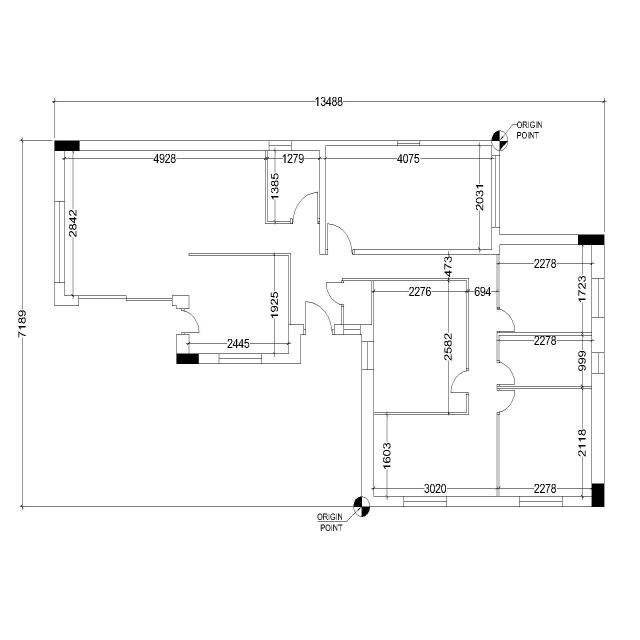Column: (578, 234, 604, 245), (592, 484, 604, 507), (54, 141, 80, 151), (176, 353, 199, 364)
Door: (304, 301, 334, 335), (290, 191, 320, 224), (326, 222, 354, 255), (450, 368, 469, 394), (181, 308, 200, 334), (497, 307, 515, 333), (497, 388, 515, 414), (326, 280, 344, 306), (497, 361, 515, 386)
Sliding Door: (78, 295, 172, 306)
Window: (54, 201, 65, 283), (492, 156, 500, 228), (592, 278, 604, 318), (520, 496, 562, 507), (404, 496, 446, 507), (219, 354, 262, 364), (362, 342, 374, 370), (268, 140, 292, 151), (592, 352, 604, 373), (344, 324, 361, 335), (397, 141, 420, 146)
